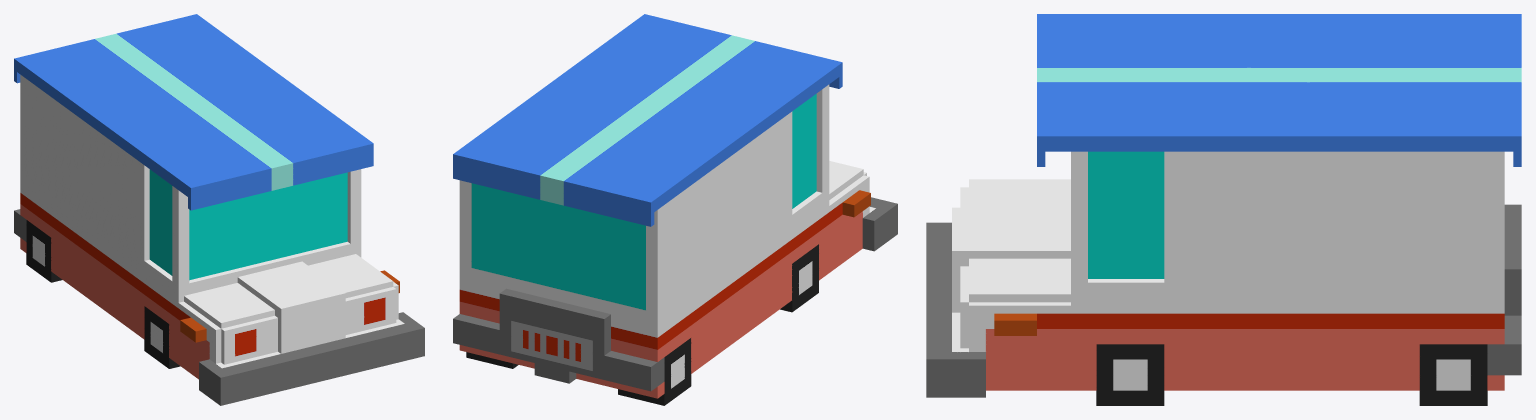
Rendered from Character_6.fbx.
The picture shows the model from 3 angles, left to right: view 1: azimuth 30°, elevation 25°; view 2: azimuth 150°, elevation 25°; view 3: azimuth 270°, elevation 25°; orthographic projection. The views are drawn at different scales.
Parts seen in each view (by area): view 1: Character_6; view 2: Character_6; view 3: Character_6.
Boxes of the visible parts, box(x1,y1,x2,y2) form: Character_6: box(14, 14, 424, 405); Character_6: box(453, 14, 897, 405); Character_6: box(926, 14, 1521, 405).
Size of the model in its own units: 38 by 35 by 70.
